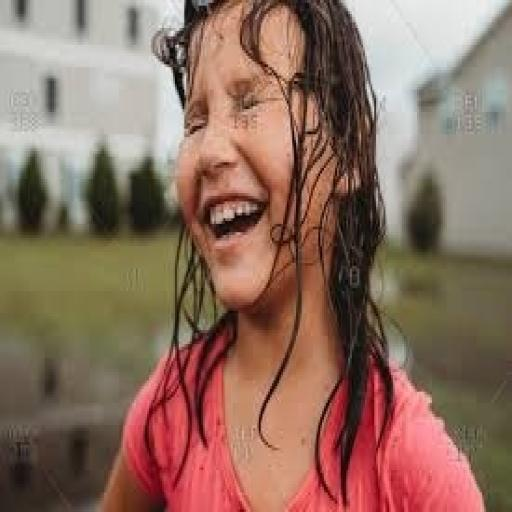laughing: (91, 0, 486, 509)
